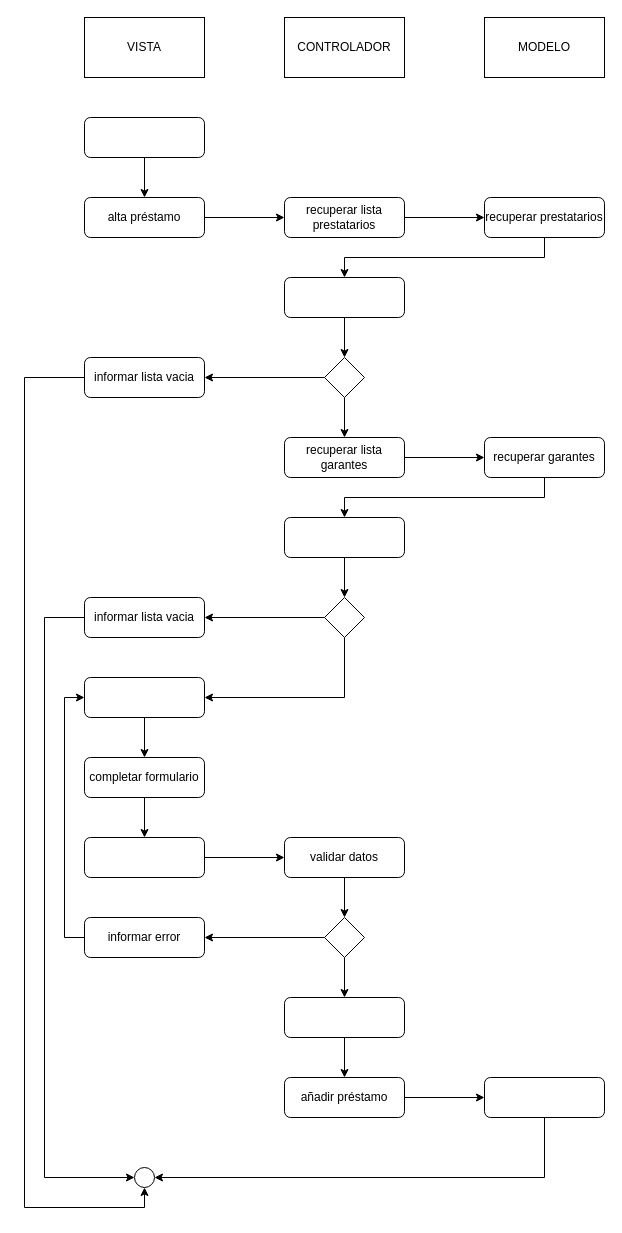
Image size: 622x1233. Some labels were removed from this diagram. Here are the shapes that lost their labels. From the top down, the centre of each, then its label:
At point 144,137: "vista préstamos".
At point 344,297: "comprobar lista prestatarios".
At point 344,537: "comprobar lista garantes".
At point 144,697: "mostrar formulario".
At point 144,857: "confirmar formulario".
At point 344,1017: "crear préstamo".
At point 544,1097: "modificar tabla préstamo".
